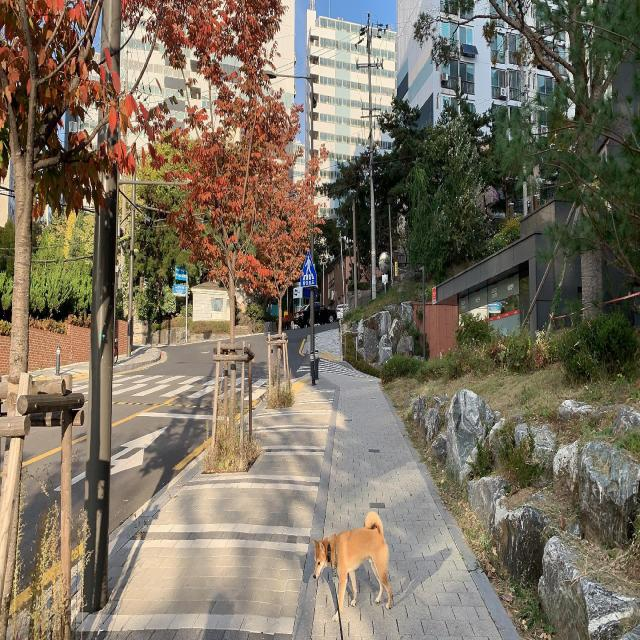횡단보도: (296, 358, 376, 378)
